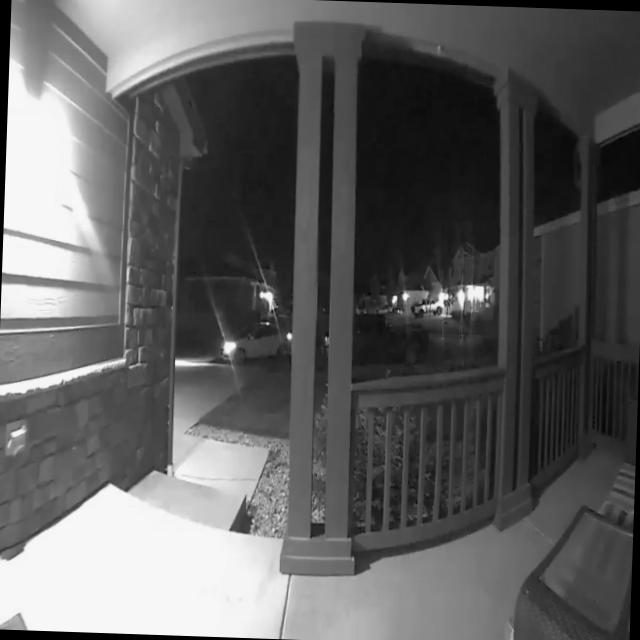car: (320, 296, 428, 367), (204, 316, 294, 364), (407, 296, 450, 322)
